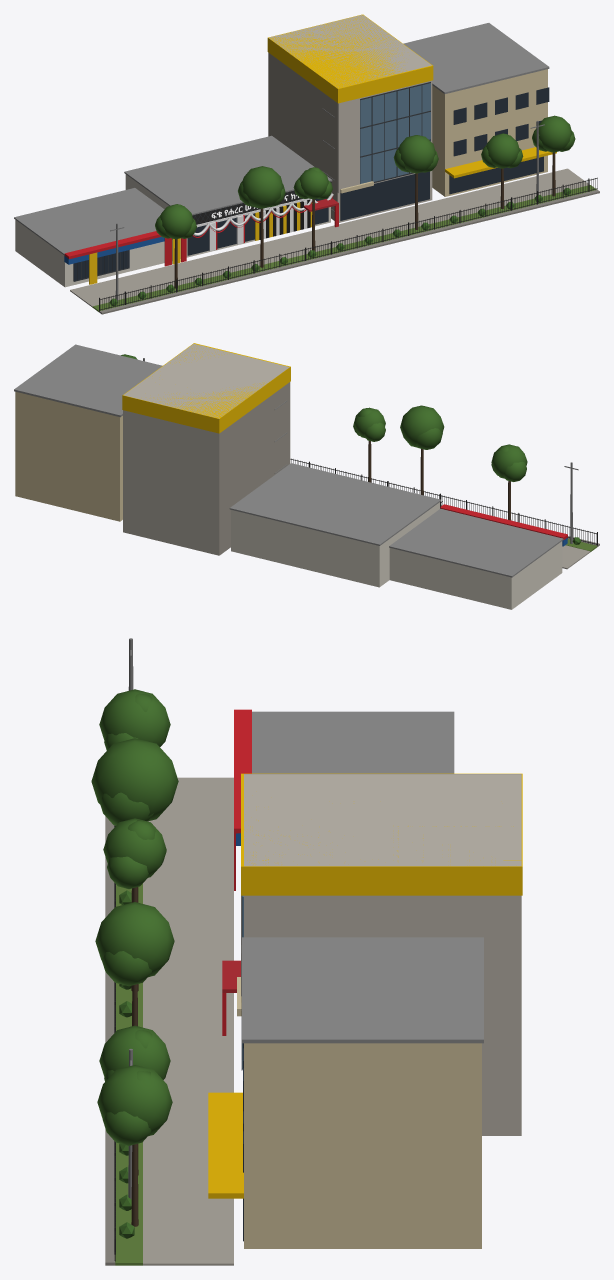
The model's file is street_block.glb.
3 renders of one model, top to bottom at view 1: azimuth 30°, elevation 25°; view 2: azimuth 150°, elevation 25°; view 3: azimuth 270°, elevation 25°, orthographic. The views are drawn at different scales.
Parts seen in each view (by area): view 1: roofGrey, sidewalk, leaf, concrete, glassDark, yellow, beige, concreteDark, glassBlue, fence, plaster, grass (+11 smaller); view 2: roofGrey, concrete, plaster, beige, concreteDark, yellow, leaf, fence, red, bark, sidewalk; view 3: beige, concrete, roofGrey, sidewalk, leaf, yellow, awningYellow, grass, curb, red, bark.
Part boxes in pixels (left/top/right/bottom): roofGrey: left=14, top=23, right=549, bottom=255; sidewalk: left=70, top=168, right=588, bottom=307; leaf: left=109, top=115, right=575, bottom=305; concrete: left=269, top=14, right=432, bottom=222; glassDark: left=74, top=87, right=549, bottom=280; yellow: left=267, top=14, right=433, bottom=103; beige: left=340, top=69, right=547, bottom=196; concreteDark: left=268, top=38, right=337, bottom=220; glassBlue: left=360, top=83, right=430, bottom=183; fence: left=99, top=177, right=597, bottom=311; plaster: left=15, top=174, right=330, bottom=287; grass: left=92, top=185, right=596, bottom=312; roofGrey: left=14, top=344, right=563, bottom=577; concrete: left=123, top=343, right=290, bottom=555; plaster: left=231, top=502, right=562, bottom=609; beige: left=15, top=391, right=122, bottom=521; concreteDark: left=219, top=369, right=289, bottom=555; yellow: left=122, top=343, right=290, bottom=433; leaf: left=121, top=354, right=581, bottom=544; fence: left=290, top=458, right=597, bottom=545; red: left=440, top=504, right=567, bottom=539; bark: left=368, top=441, right=511, bottom=520; sidewalk: left=562, top=545, right=590, bottom=569; beige: left=237, top=977, right=481, bottom=1248; concrete: left=241, top=774, right=521, bottom=1135; roofGrey: left=242, top=711, right=483, bottom=1043; sidewalk: left=143, top=777, right=233, bottom=1265; leaf: left=91, top=689, right=178, bottom=1238; yellow: left=241, top=773, right=522, bottom=895; awningYellow: left=208, top=1092, right=243, bottom=1198; grass: left=115, top=883, right=142, bottom=1265; curb: left=105, top=816, right=115, bottom=1265; red: left=222, top=709, right=251, bottom=1035; bark: left=131, top=887, right=138, bottom=1226.
Bounding box in the file's own units: 58.1 × 15 × 21.75.
Materials: 25 (1 with a texture image).
